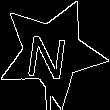N_N: (28, 25, 76, 80)
